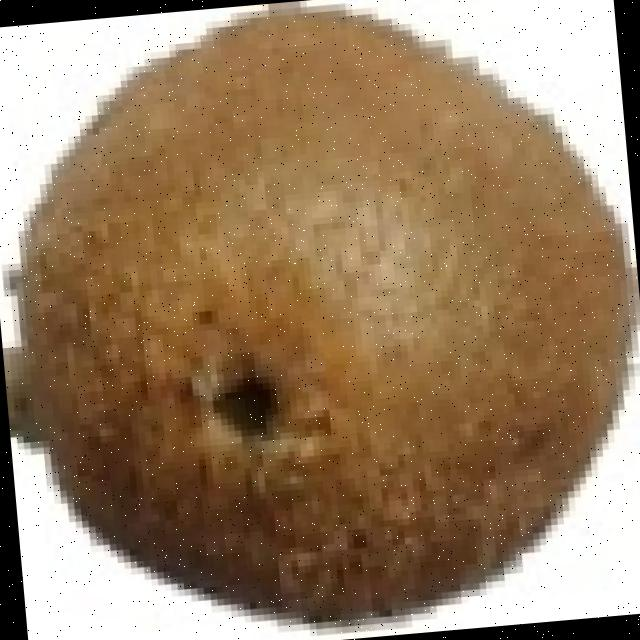kiwi: (7, 14, 623, 624)
